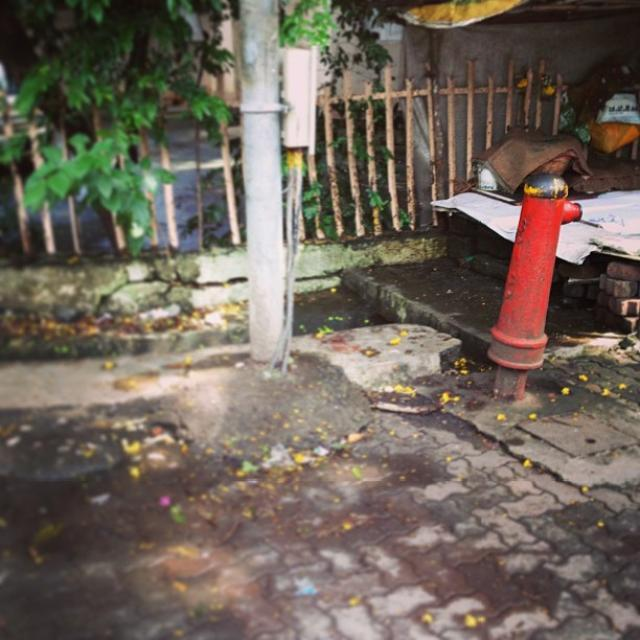fire_hydrant: (486, 194, 584, 403)
